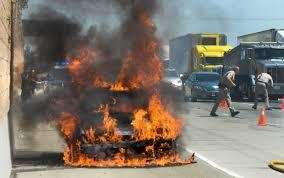fire: (36, 20, 186, 171)
